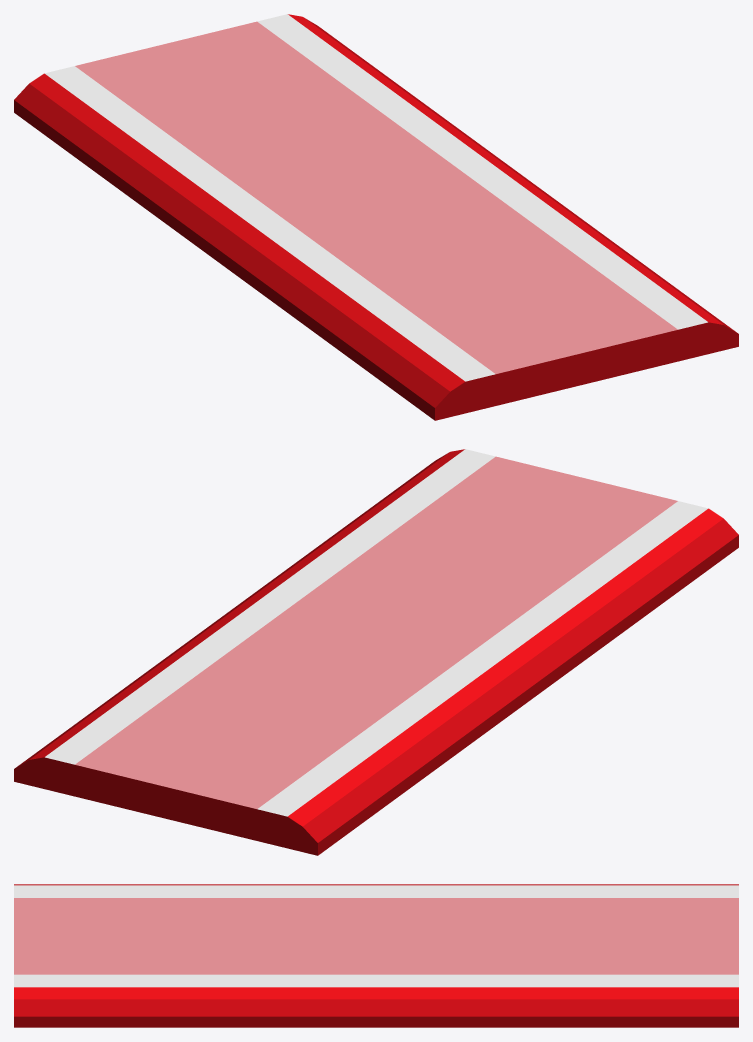
3 renders of one model, top to bottom at view 1: azimuth 30°, elevation 25°; view 2: azimuth 150°, elevation 25°; view 3: azimuth 270°, elevation 25°, orthographic. The views are drawn at different scales.
Parts seen in each view (by area): view 1: Straight2X; view 2: Straight2X; view 3: Straight2X.
Boxes of the visible parts, x1,y1,x2,y2 form: Straight2X: [14, 14, 738, 420]; Straight2X: [14, 449, 738, 855]; Straight2X: [14, 884, 738, 1027].
Bounding box in the file's own units: 10 × 1 × 24.
